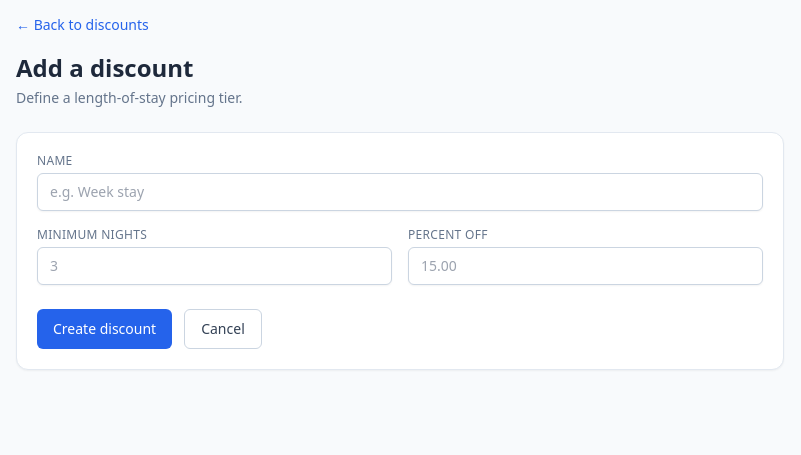
Test: Staff discount form › validates required fields inline without submitting
Click the button "Create discount": (105,329) [37,309,172,349]
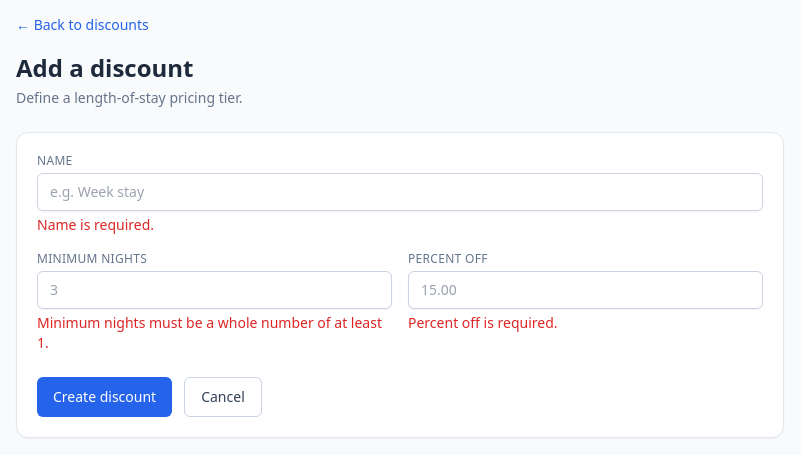
Expected: the text "Name is required." is shown, [37,215,154,234]
Expected: the text "Minimum nights must be a whole number of at least 1." is shown, [37,313,392,353]
Expected: the text "Percent off is required." is shown, [408,313,558,332]
